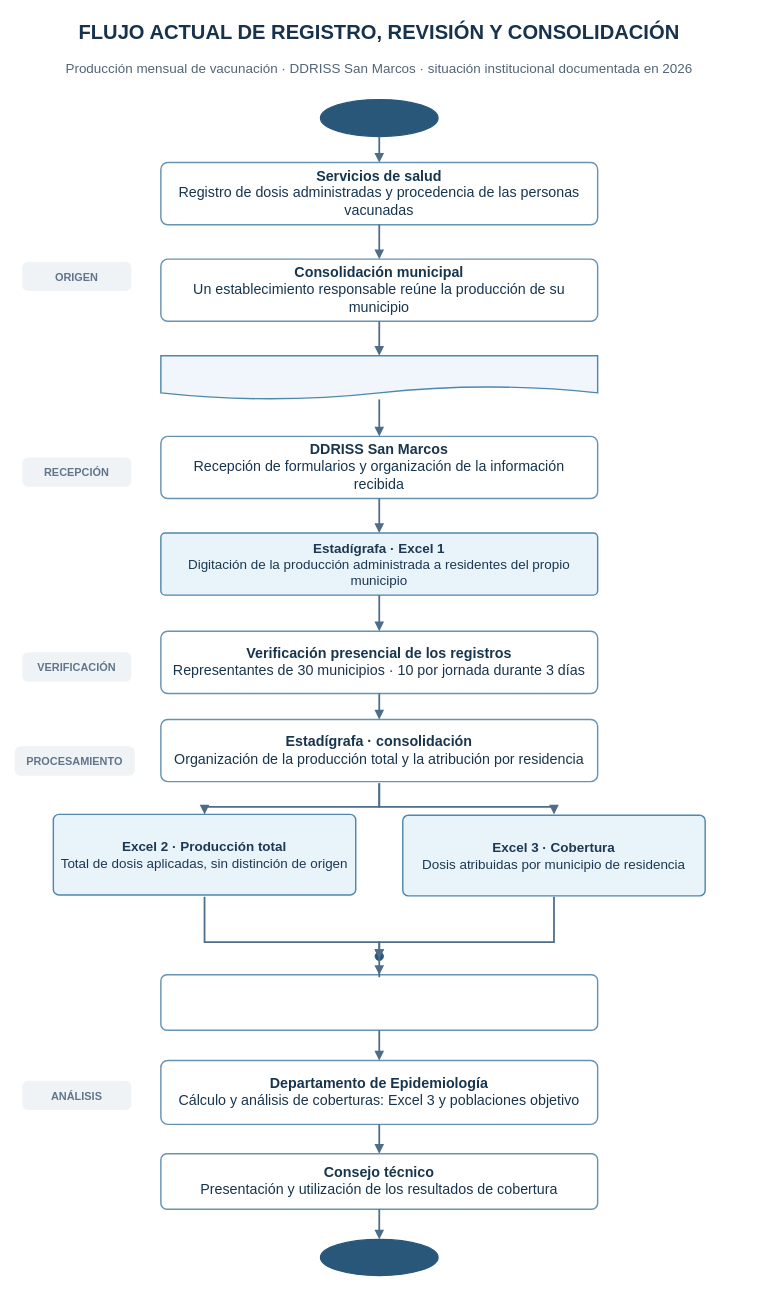
Image size: 757x1290. Some labels were removed from this diagram. Here are the shapes that lost their labels. From the top down, the centre of each, then its label:
the point at 378,118: Inicio
the point at 379,377: Formulario 5C
the point at 379,1002: Tecnología e Informática Revisión posterior de la información consolidada
the point at 378,1257: Fin
